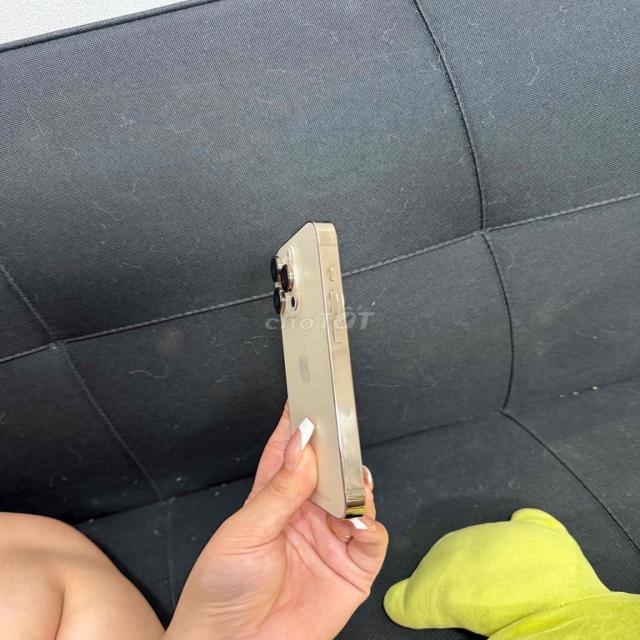gen_14: (258, 215, 393, 541)
